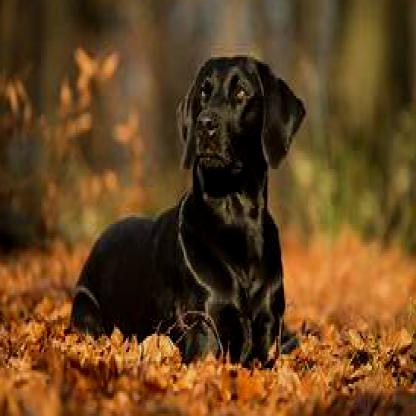dog: (73, 55, 307, 366)
